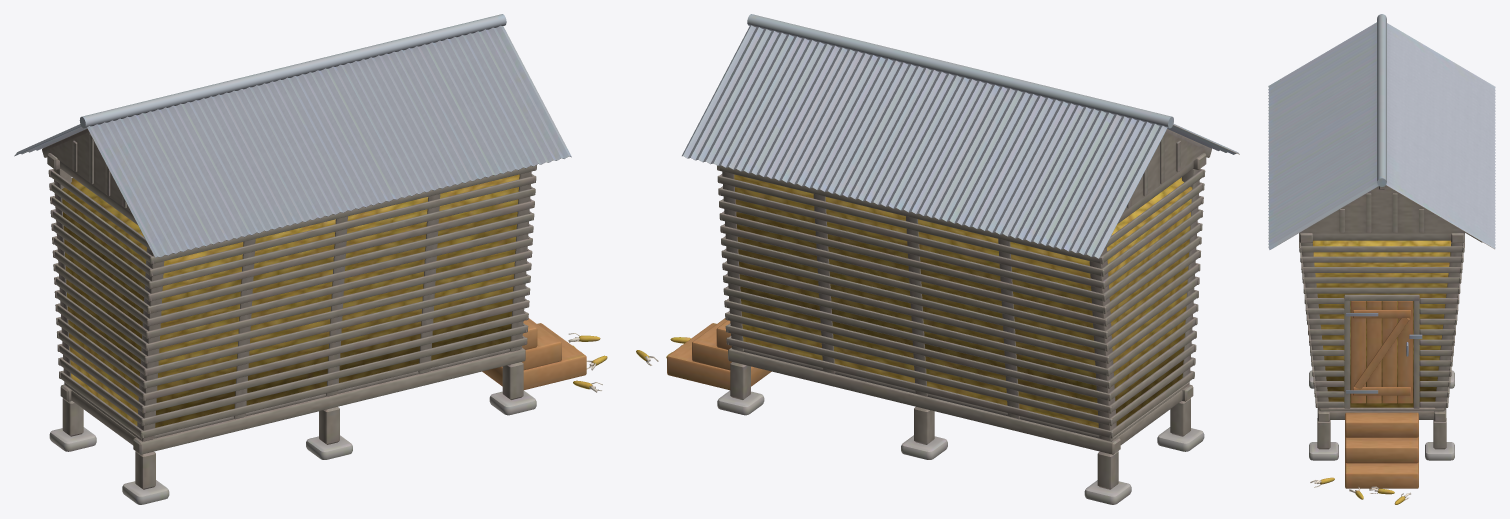
The model's file is corn-crib.glb.
3 views of the same model, side by side, from view 1: azimuth 30°, elevation 25°; view 2: azimuth 150°, elevation 25°; view 3: azimuth 270°, elevation 25° (orthographic). The views are drawn at different scales.
Visible parts, largest first — view 1: corn-crib_body; view 2: corn-crib_body; view 3: corn-crib_body.
Boxes of the visible parts, x1,y1,x2,y2 form: corn-crib_body: (14,14,607,504); corn-crib_body: (636,14,1239,504); corn-crib_body: (1268,14,1495,504).
Bounding box in the file's own units: 5.53 × 3.61 × 2.59.
Materials: 1 (1 with a texture image).
